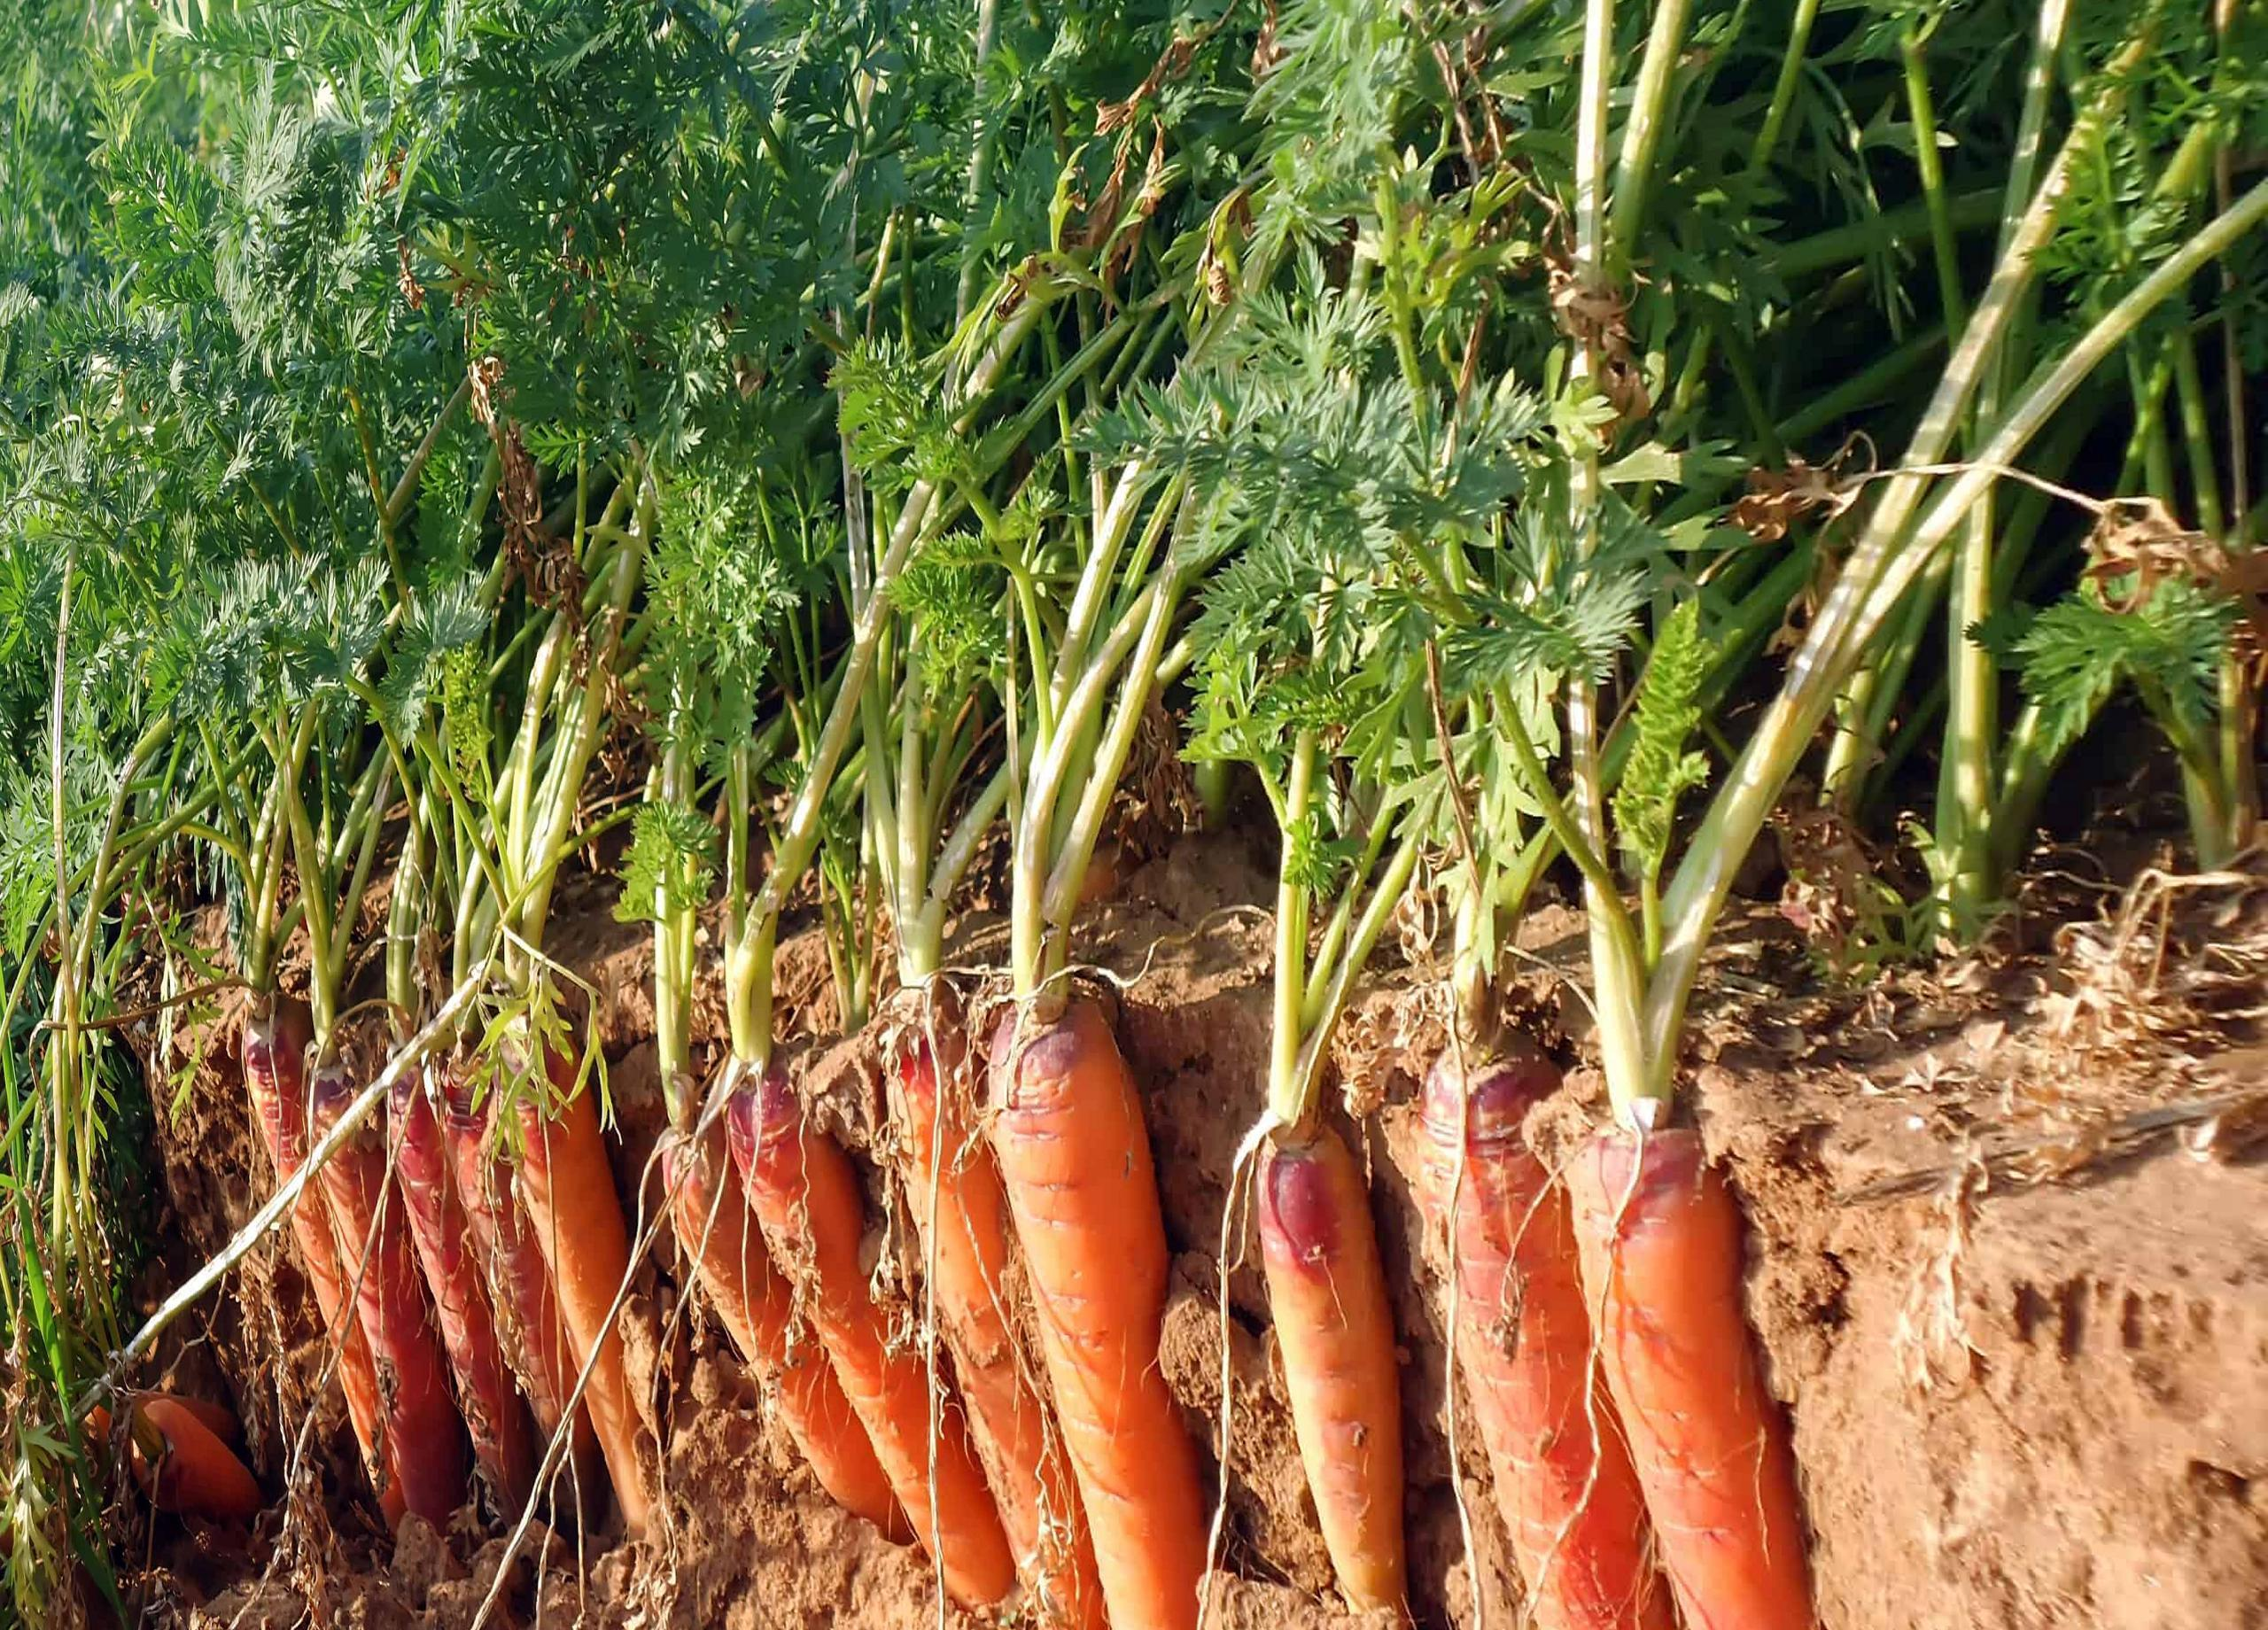carrot: (232, 1014, 1791, 1630), (657, 1030, 1190, 1630), (248, 1047, 673, 1549), (1465, 1105, 1784, 1623), (1238, 1120, 1456, 1630)
